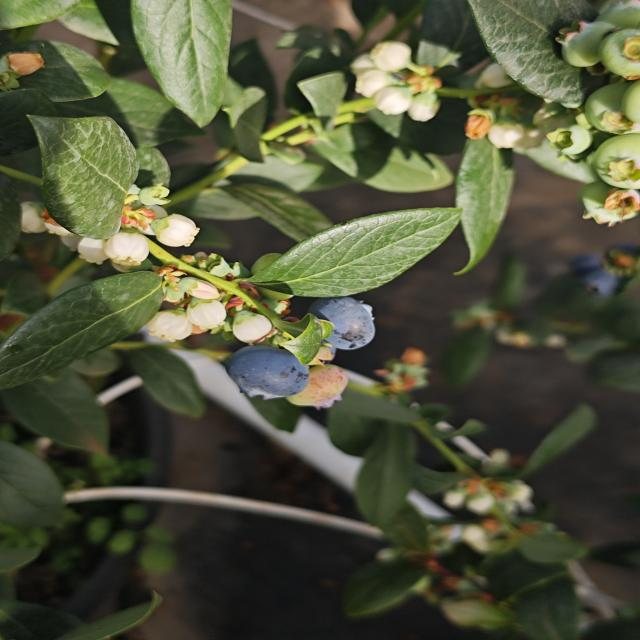ripe: (226, 338, 316, 403), (311, 291, 378, 354), (566, 246, 639, 296)
